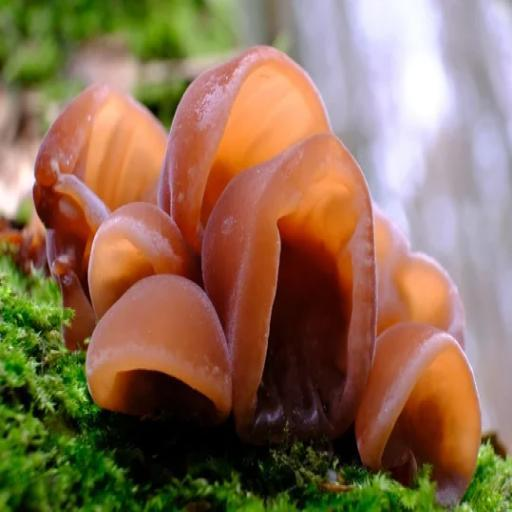mushroom: (189, 140, 379, 447), (164, 34, 337, 285), (337, 295, 493, 503), (28, 52, 178, 257), (337, 186, 487, 377), (81, 272, 236, 445), (60, 191, 208, 327)
